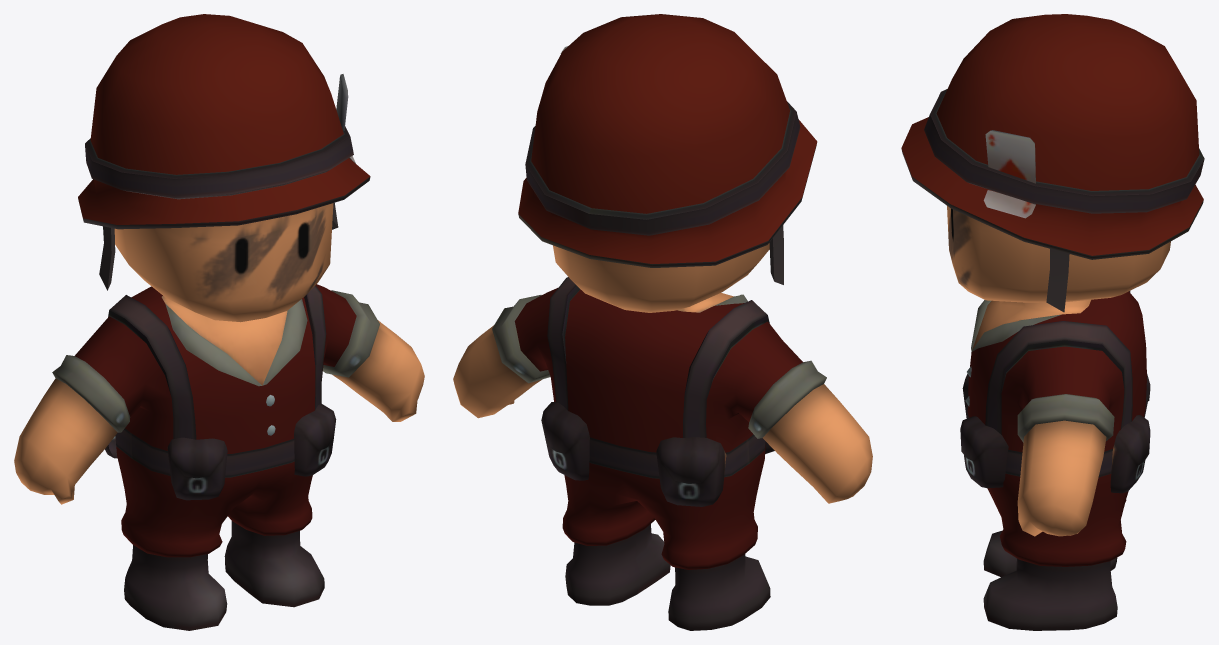
File: StumbleRed.fbx
3 renders of one model, left to right at view 1: azimuth 30°, elevation 25°; view 2: azimuth 150°, elevation 25°; view 3: azimuth 270°, elevation 25°, orthographic. The views are drawn at different scales.
Visible parts, largest first — view 1: Player_SkinSoldier_001; view 2: Player_SkinSoldier_001; view 3: Player_SkinSoldier_001.
Part boxes in pixels (left/top/right/bottom): Player_SkinSoldier_001: left=14, top=14, right=424, bottom=630; Player_SkinSoldier_001: left=453, top=14, right=872, bottom=630; Player_SkinSoldier_001: left=901, top=14, right=1204, bottom=630.
Size of the model in its own units: 1.4 by 1.88 by 0.9168.
3 materials, 1 textured.
